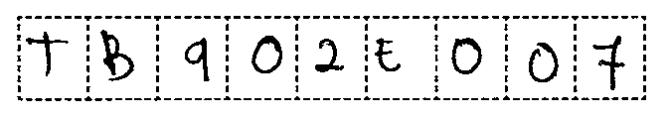0: (246, 28, 290, 80), (522, 37, 564, 86), (448, 32, 486, 79)
2: (310, 32, 348, 80)
7: (589, 35, 631, 94)
9: (176, 32, 218, 87)
B: (95, 23, 140, 88)
E: (372, 30, 410, 80)
T: (22, 29, 73, 82)
